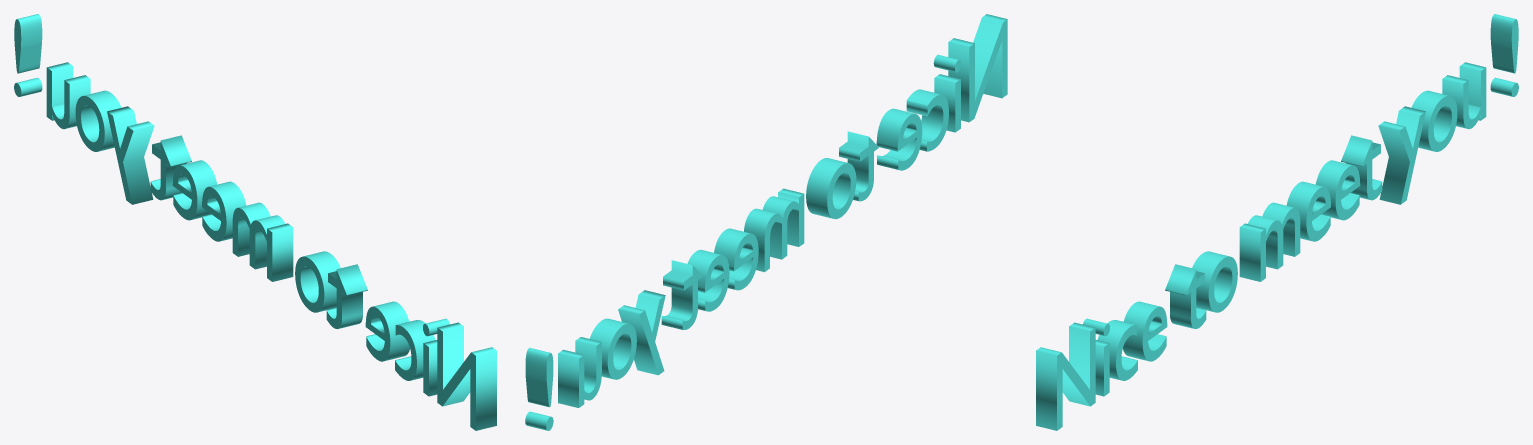
The model's file is nicetomeetyou.glb.
3 views of the same model, side by side, from view 1: azimuth 30°, elevation 25°; view 2: azimuth 150°, elevation 25°; view 3: azimuth 330°, elevation 25° (orthographic).
Parts seen in each view (by area): view 1: 文本; view 2: 文本; view 3: 文本.
Part boxes in pixels (left/top/right/bottom): 文本: left=14, top=14, right=496, bottom=430; 文本: left=525, top=14, right=1007, bottom=430; 文本: left=1036, top=14, right=1518, bottom=430.
Size of the model in its own units: 0.2 by 0.921 by 7.59.
